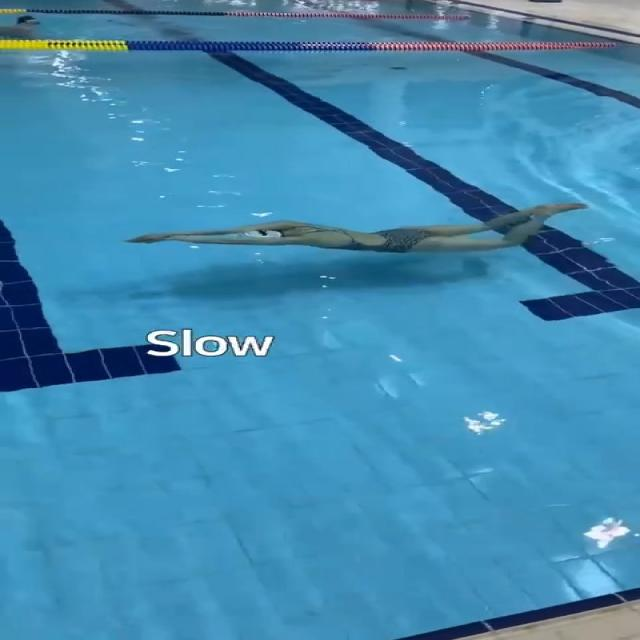Swimming: (102, 167, 613, 273)
